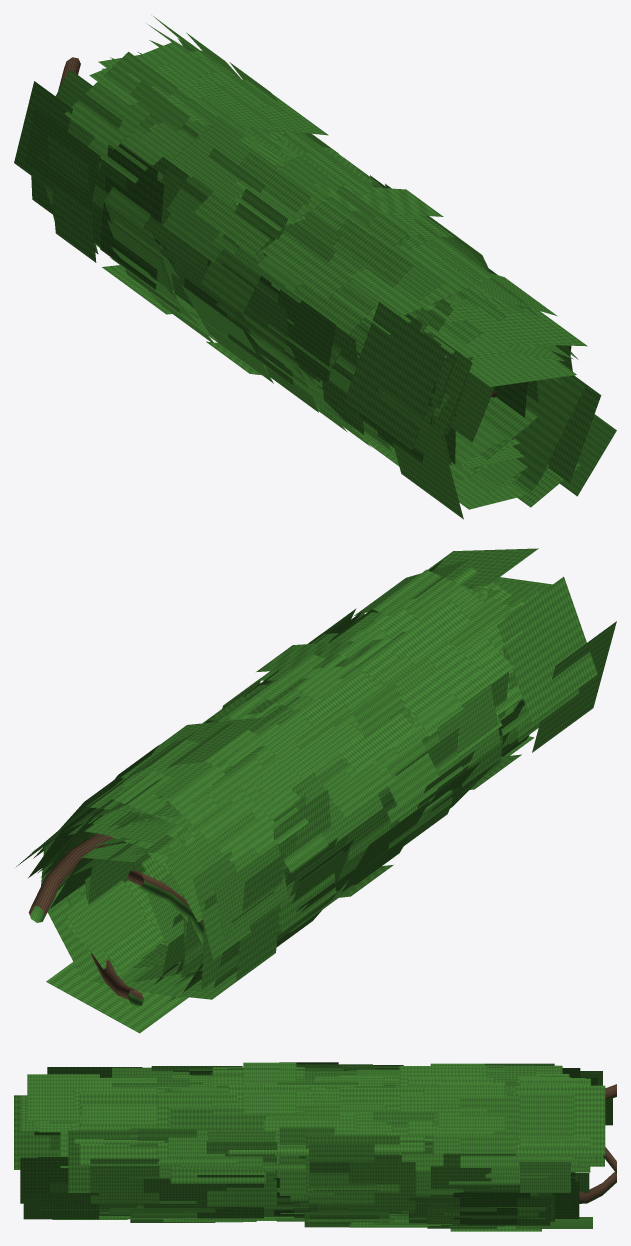
The model's file is veg_epiphyte_spanishmoss_01.glb.
3 renders of one model, top to bottom at view 1: azimuth 30°, elevation 25°; view 2: azimuth 150°, elevation 25°; view 3: azimuth 270°, elevation 25°, orthographic. The views are drawn at different scales.
Parts seen in each view (by area): view 1: veg_epiphyte_spanishmoss_01; view 2: veg_epiphyte_spanishmoss_01; view 3: veg_epiphyte_spanishmoss_01.
Boxes of the visible parts, left/top/right/bottom form: veg_epiphyte_spanishmoss_01: left=14, top=16, right=616, bottom=519; veg_epiphyte_spanishmoss_01: left=16, top=548, right=616, bottom=1033; veg_epiphyte_spanishmoss_01: left=14, top=1062, right=616, bottom=1231.
Bounding box in the file's own units: 0.4467 × 0.4518 × 1.6.
Materials: 1 (1 with a texture image).
